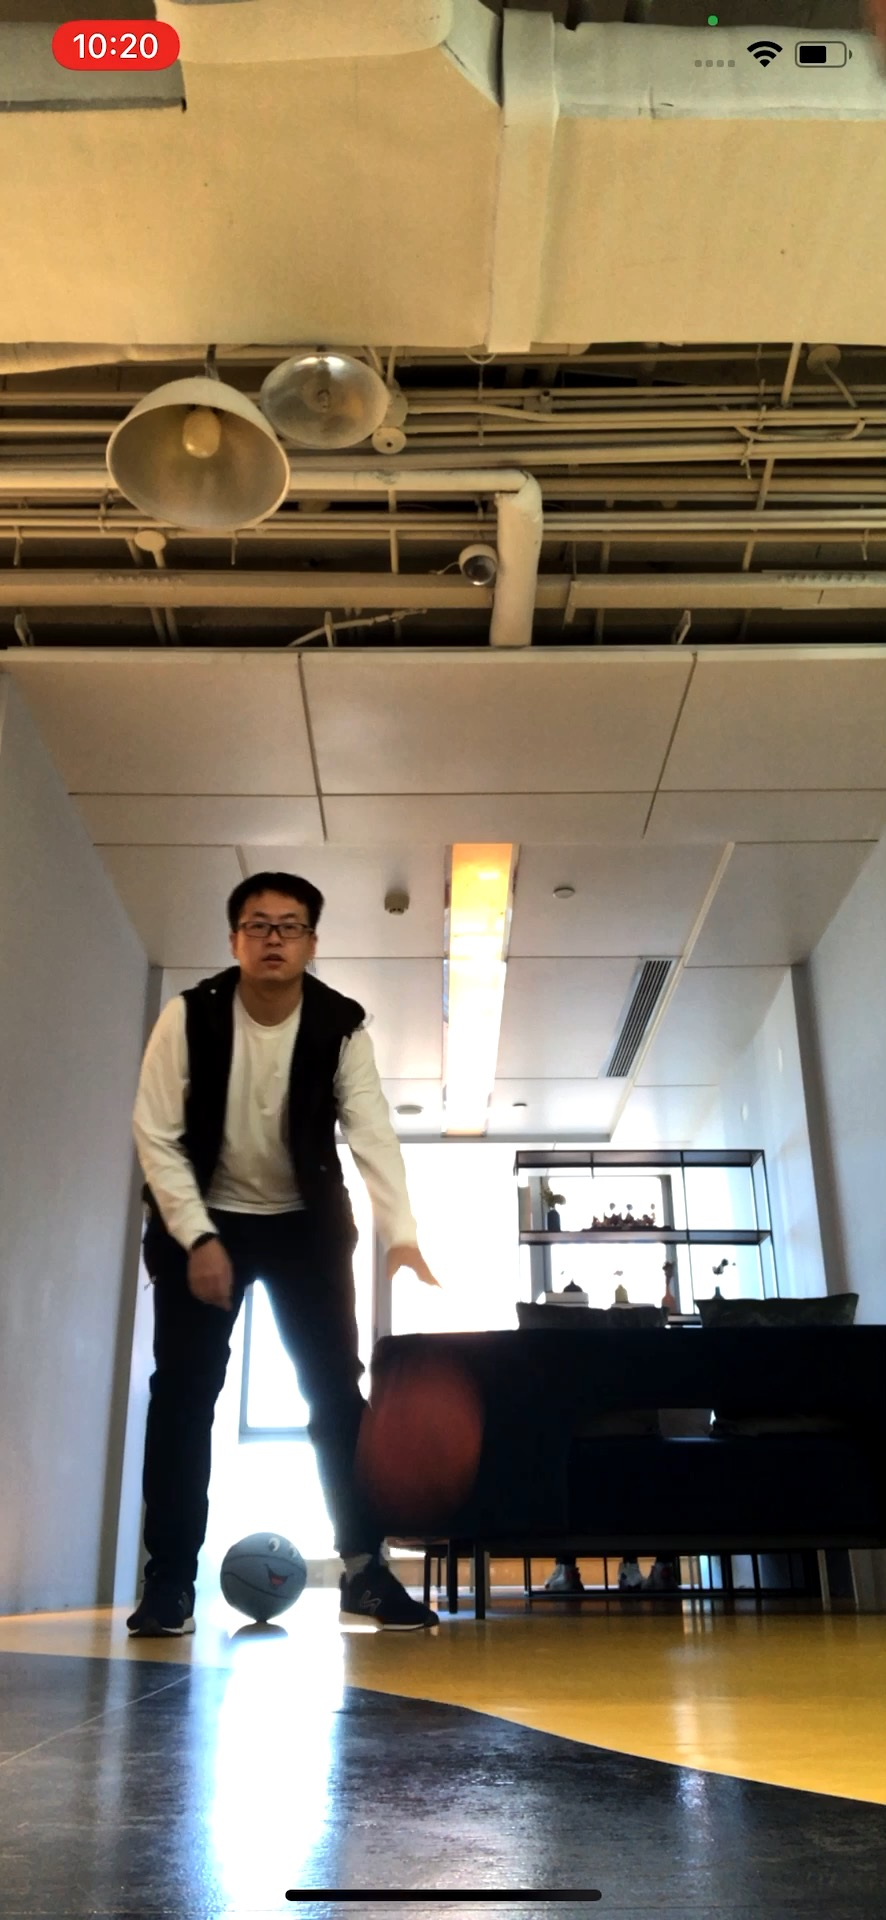ball: (352, 1370, 480, 1498), (221, 1533, 306, 1616)
